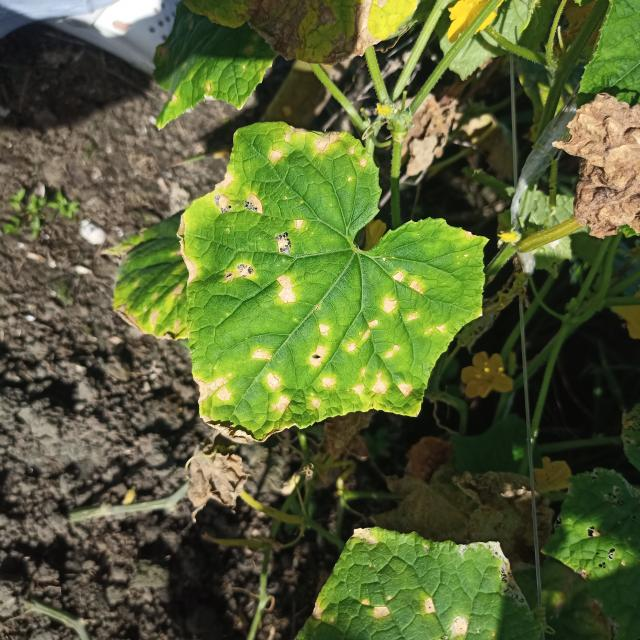disease_cucumber: (176, 120, 449, 441)
